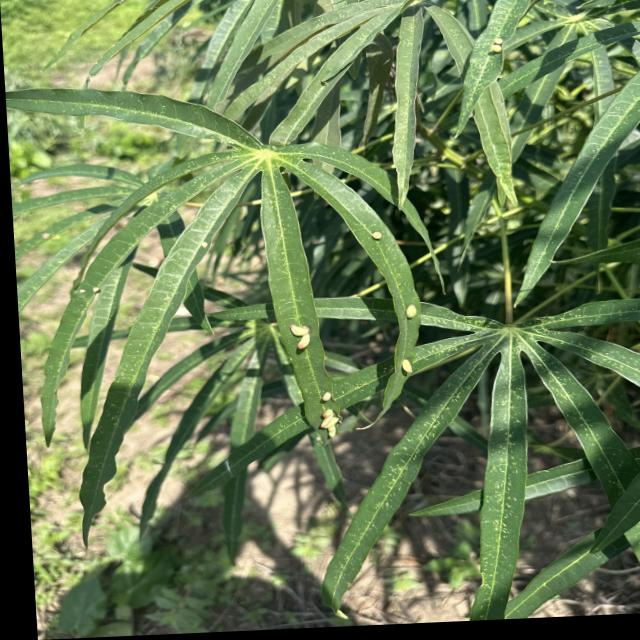Mosca: (314, 381, 360, 449), (25, 204, 75, 246), (278, 312, 323, 357), (393, 338, 432, 387), (187, 225, 227, 256), (71, 270, 110, 298), (396, 293, 433, 319), (365, 217, 396, 248), (476, 30, 513, 52)
